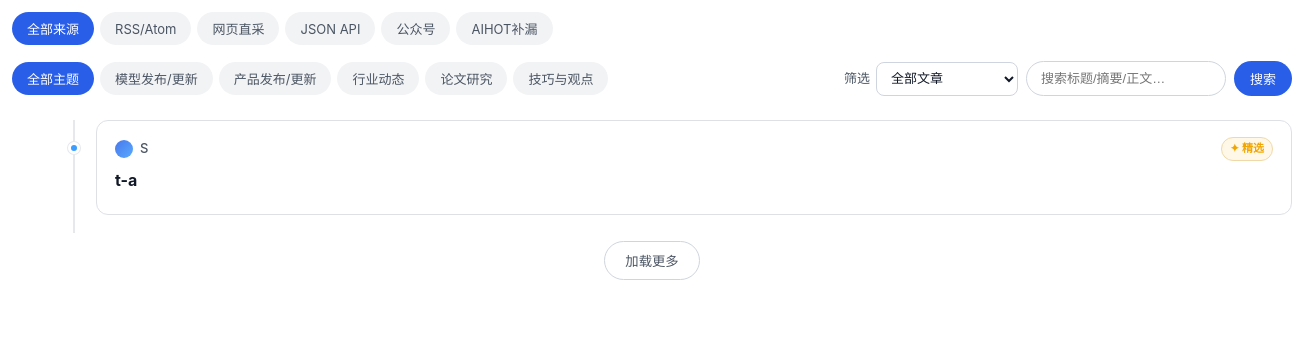
Test case: Feed › shows load-more and appends the next page via cursor
The image size is (1304, 363).
Expected: the link "t-a" is shown, [115,170,137,190]
Step 1. Click the button "加载更多" → [652, 260], box [604,241,700,280]
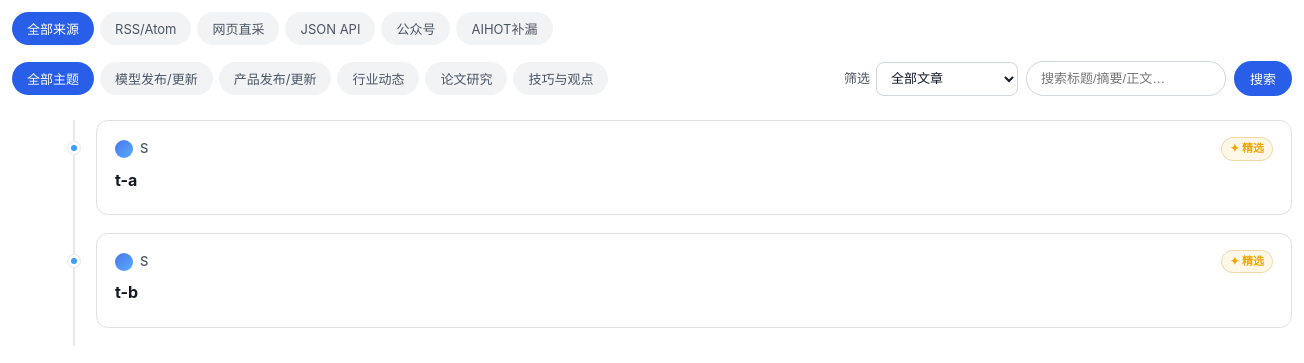
Expected: the link "t-a" is shown, [115,170,137,190]
Result: the link "t-b" is shown at [115,282,138,302]
